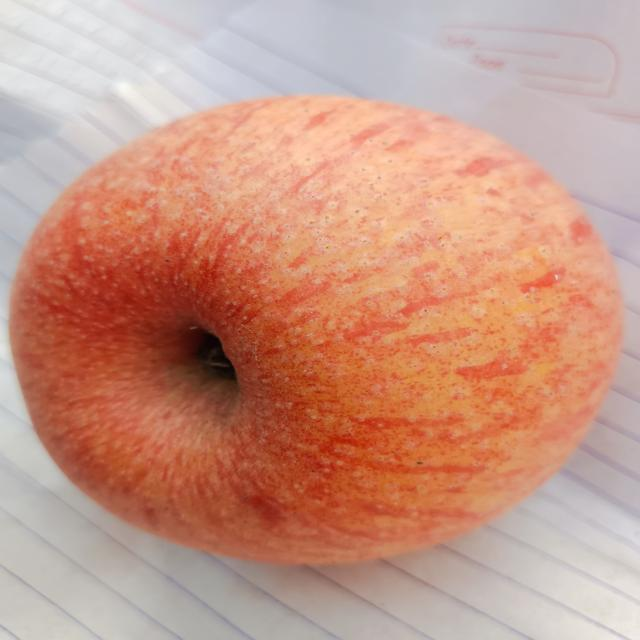Fresh Apple: (5, 88, 620, 575)
